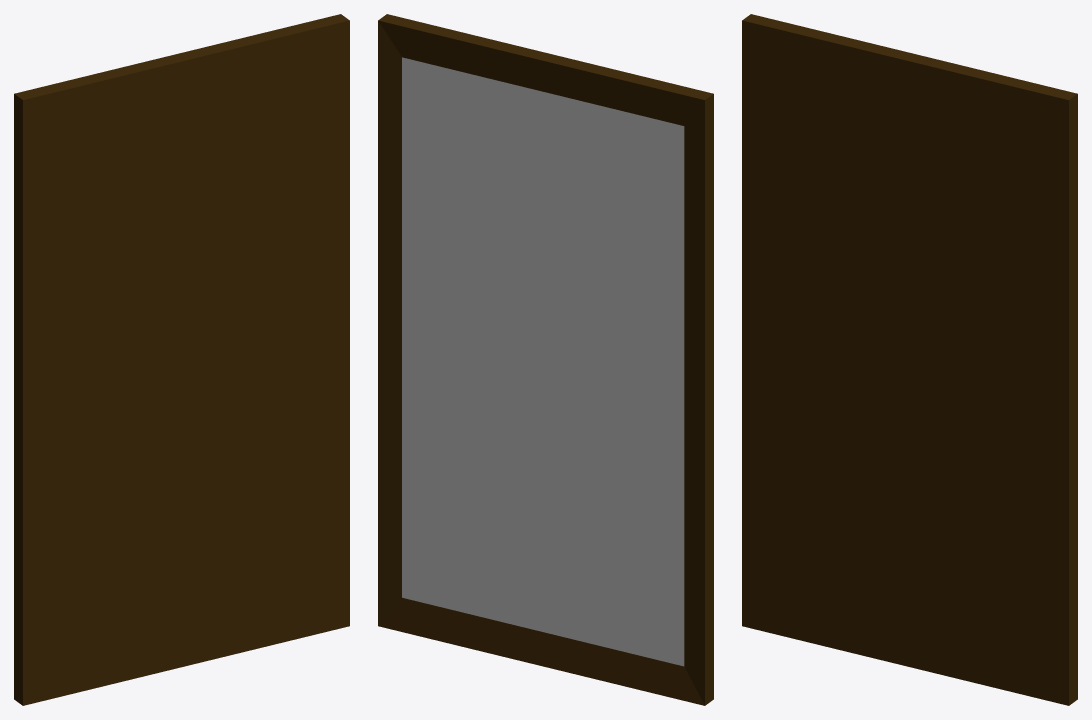
File: poster.fbx
The picture shows the model from 3 angles, left to right: view 1: azimuth 30°, elevation 25°; view 2: azimuth 150°, elevation 25°; view 3: azimuth 330°, elevation 25°; orthographic projection.
Visible parts, largest first — view 1: poster_2; view 2: poster_2; view 3: poster_2.
Part boxes in pixels (bbox=[...]): poster_2: bbox=[14, 14, 349, 705]; poster_2: bbox=[378, 14, 713, 705]; poster_2: bbox=[742, 14, 1077, 705].
Bounding box in the file's own units: 124 × 219 × 5.81.
